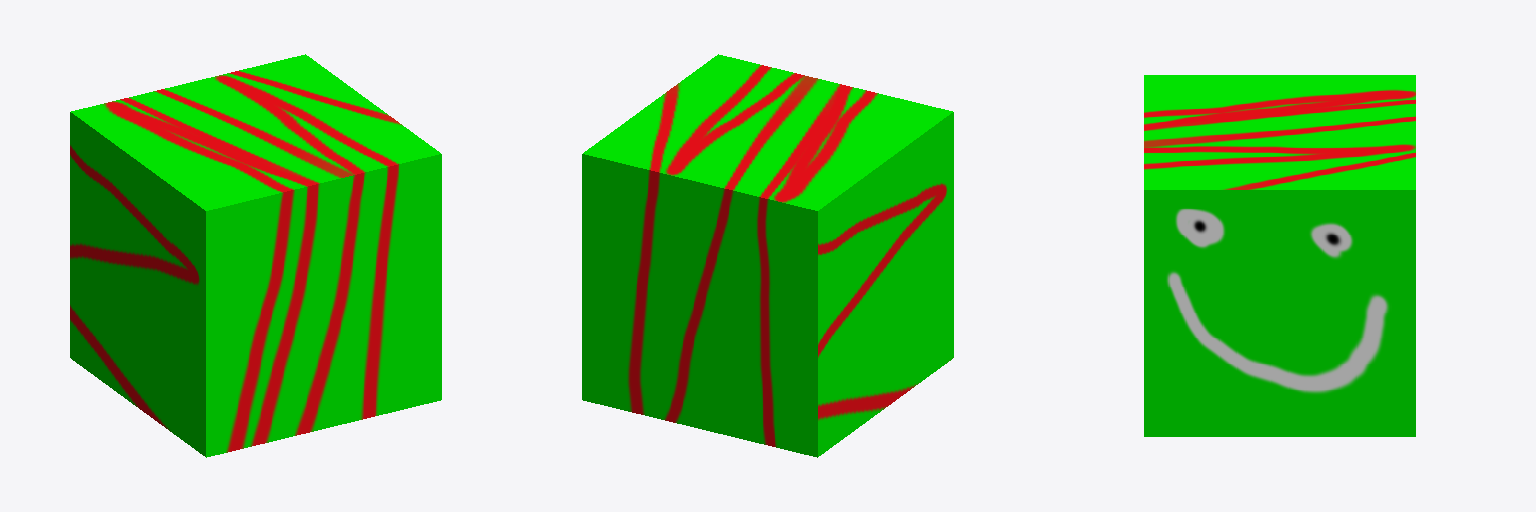
3 renders of one model, left to right at view 1: azimuth 30°, elevation 25°; view 2: azimuth 150°, elevation 25°; view 3: azimuth 270°, elevation 25°, orthographic.
Visible parts, largest first — view 1: Cube; view 2: Cube; view 3: Cube.
Boxes of the visible parts, x1,y1,x2,y2 form: Cube: [70, 54, 441, 457]; Cube: [582, 54, 953, 457]; Cube: [1144, 75, 1415, 436].
Size of the model in its own units: 2 by 2 by 2.
Materials: 1 (1 with a texture image).